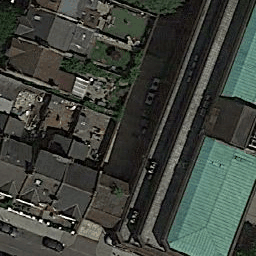car: (41, 235, 66, 254), (1, 222, 20, 239)
